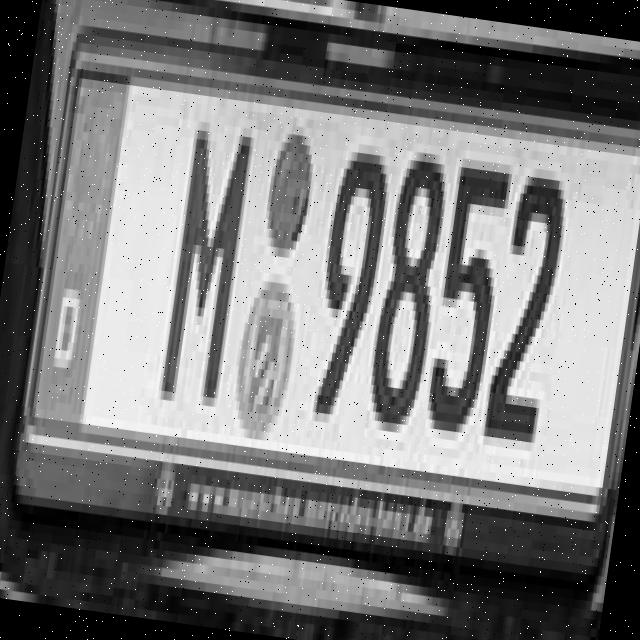Allemagne: (26, 66, 133, 438)
EU: (26, 68, 640, 495)
